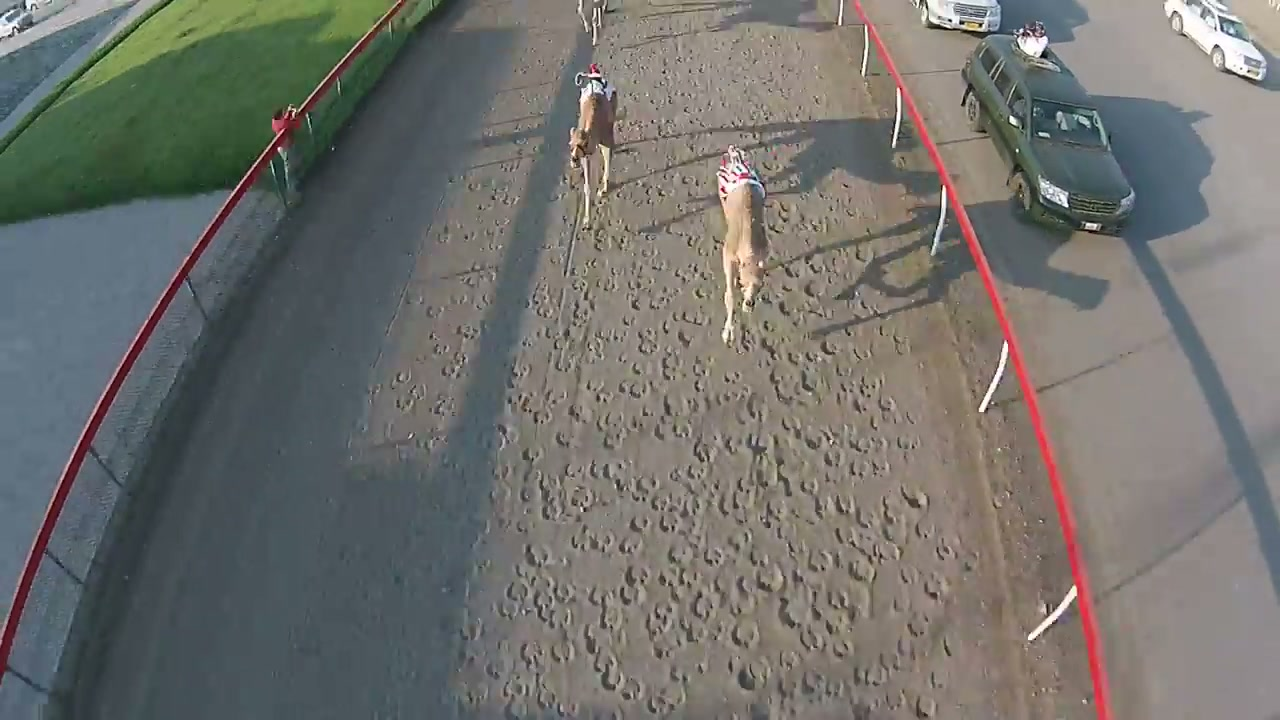animal_footprint: (136, 0, 1070, 719), (457, 26, 1008, 717), (460, 361, 967, 716), (721, 321, 736, 344), (596, 184, 609, 198), (740, 298, 753, 312)
